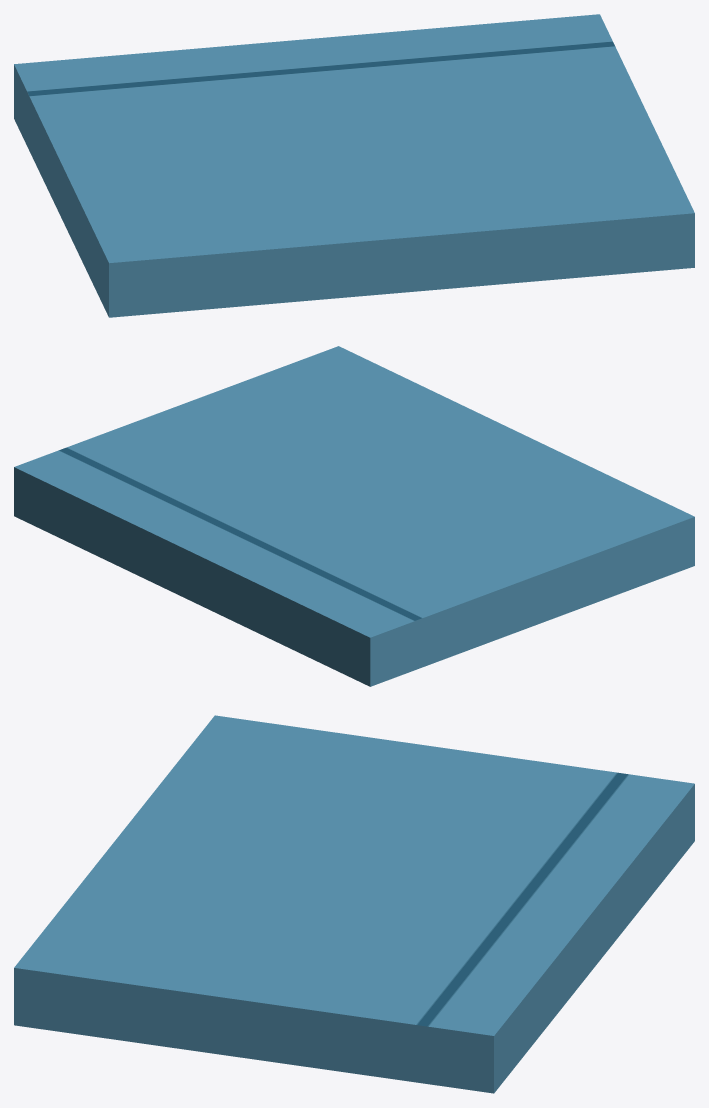
The model's file is teczka.glb.
3 views of the same model, one above another, from view 1: azimuth 30°, elevation 25°; view 2: azimuth 150°, elevation 25°; view 3: azimuth 270°, elevation 25° (orthographic). The views are drawn at different scales.
Visible parts, largest first — view 1: biurko.066; view 2: biurko.066; view 3: biurko.066.
Part boxes in pixels (box(x1,y1,x2,y2)): biurko.066: box(14, 14, 694, 317); biurko.066: box(14, 346, 694, 686); biurko.066: box(14, 715, 694, 1093).
Bounding box in the file's own units: 0.957 × 0.0801 × 0.8589.
1 material, 1 textured.
